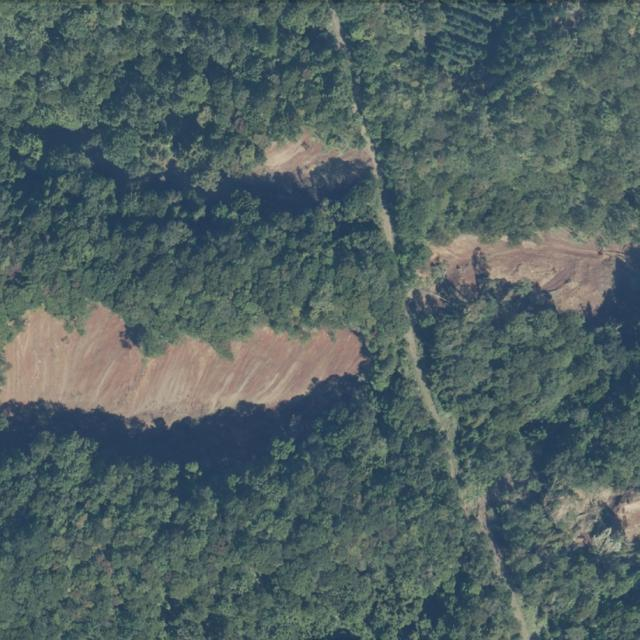landslide: (0, 306, 364, 425), (432, 230, 624, 310), (253, 128, 375, 179)
